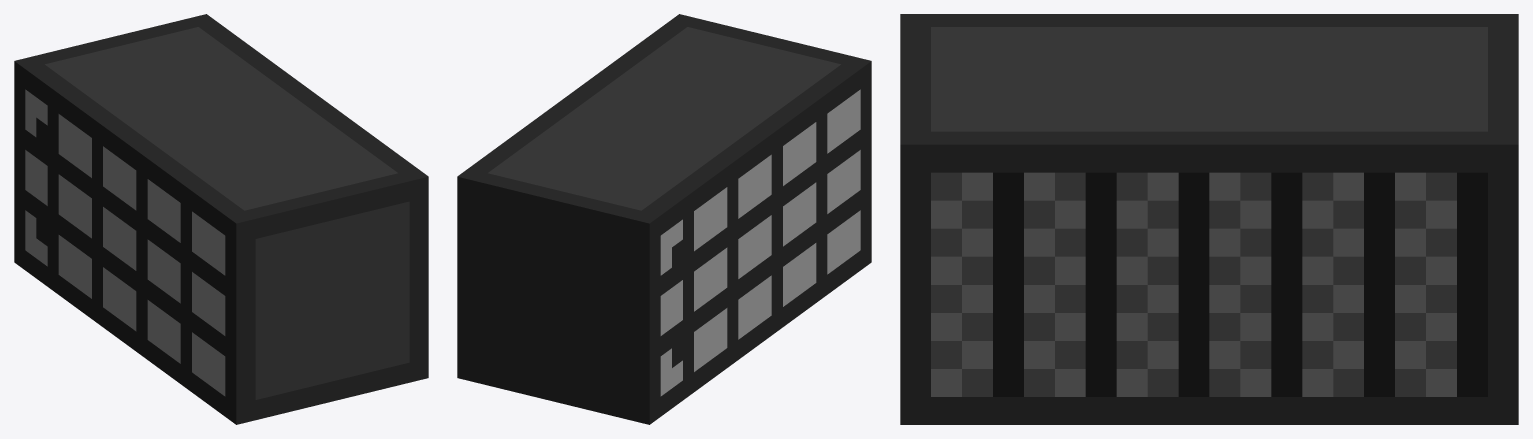
Rendered from Speaker.fbx.
3 views of the same model, side by side, from view 1: azimuth 30°, elevation 25°; view 2: azimuth 150°, elevation 25°; view 3: azimuth 270°, elevation 25° (orthographic). The views are drawn at different scales.
Parts seen in each view (by area): view 1: Speaker; view 2: Speaker; view 3: Speaker.
Boxes of the visible parts, x1,y1,x2,y2 form: Speaker: (14, 14, 428, 424); Speaker: (457, 14, 871, 424); Speaker: (900, 14, 1518, 424).
Size of the model in its own units: 10 by 10 by 20.
1 material, 1 textured.
